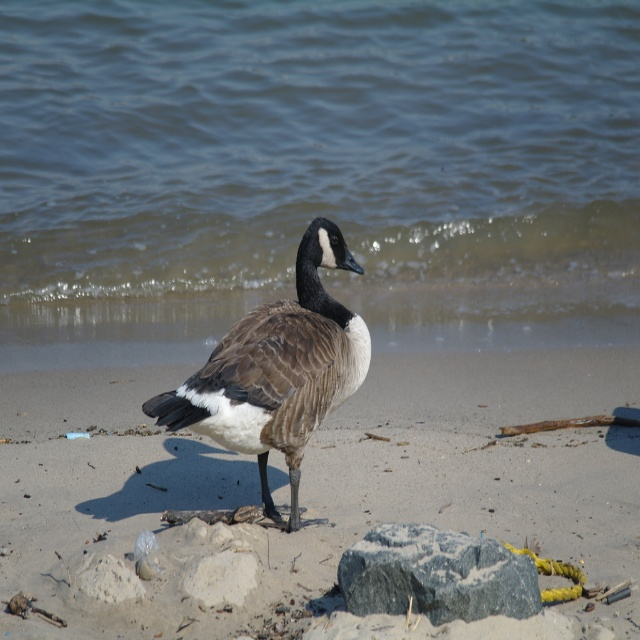Goose: (140, 212, 373, 533)
